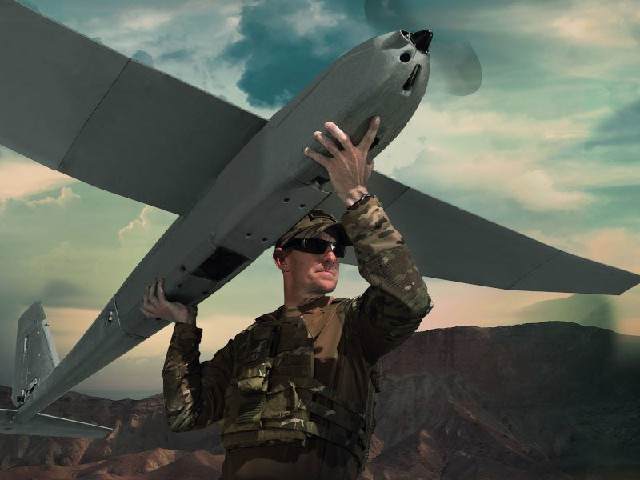maybay_khongnguoilai: (11, 4, 637, 453)
